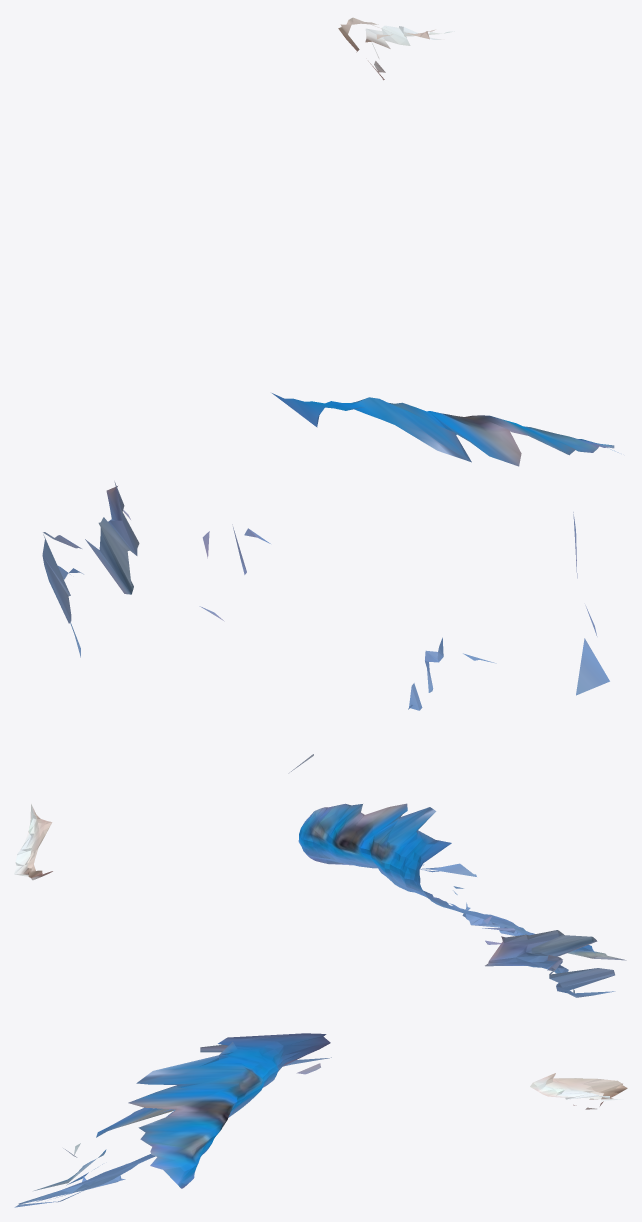
File: observed-surface.glb
3 renders of one model, top to bottom at view 1: azimuth 30°, elevation 25°; view 2: azimuth 150°, elevation 25°; view 3: azimuth 270°, elevation 25°, orthographic. The views are drawn at different scales.
Parts seen in each view (by area): view 1: geometry_0; view 2: geometry_0; view 3: geometry_0.
Part boxes in pixels (x1=…): geometry_0: x1=42, y1=17, x2=618, y2=773; geometry_0: x1=14, y1=803, x2=626, y2=997; geometry_0: x1=14, y1=1033, x2=627, y2=1207.
Size of the model in its own units: 0.7544 by 0.417 by 0.9343.
1 material, 1 textured.
